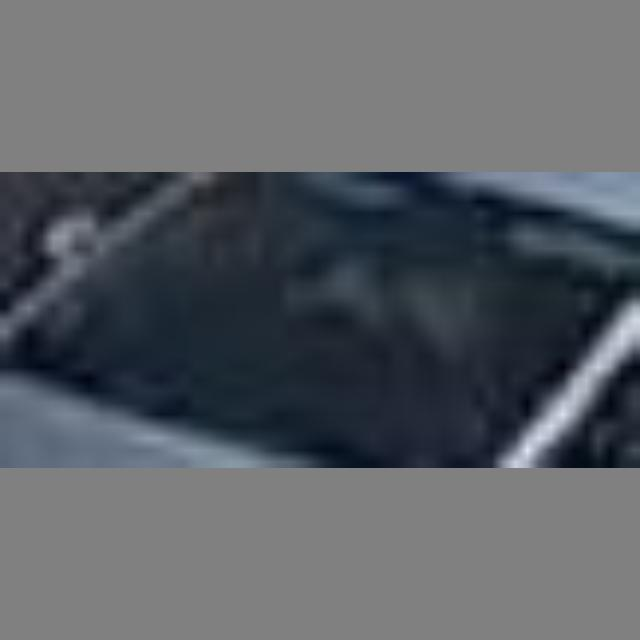pakai: (284, 208, 474, 385)
